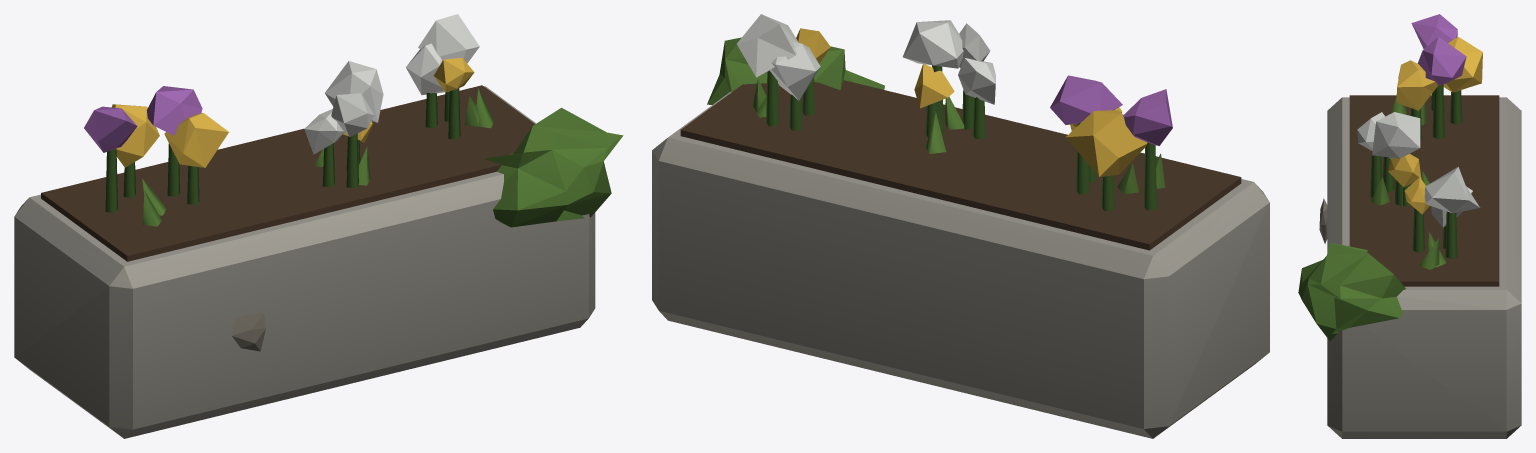
File: plaza_planter_01.glb
The picture shows the model from 3 angles, left to right: view 1: azimuth 30°, elevation 25°; view 2: azimuth 150°, elevation 25°; view 3: azimuth 270°, elevation 25°; orthographic projection. The views are drawn at different scales.
Parts seen in each view (by area): view 1: plaza_planter_01; view 2: plaza_planter_01; view 3: plaza_planter_01.
Boxes of the visible parts, x1,y1,x2,y2 form: plaza_planter_01: [14, 14, 623, 438]; plaza_planter_01: [652, 14, 1269, 438]; plaza_planter_01: [1298, 14, 1521, 438].
Bounding box in the file's own units: 1.37 × 0.7284 × 0.5973.
